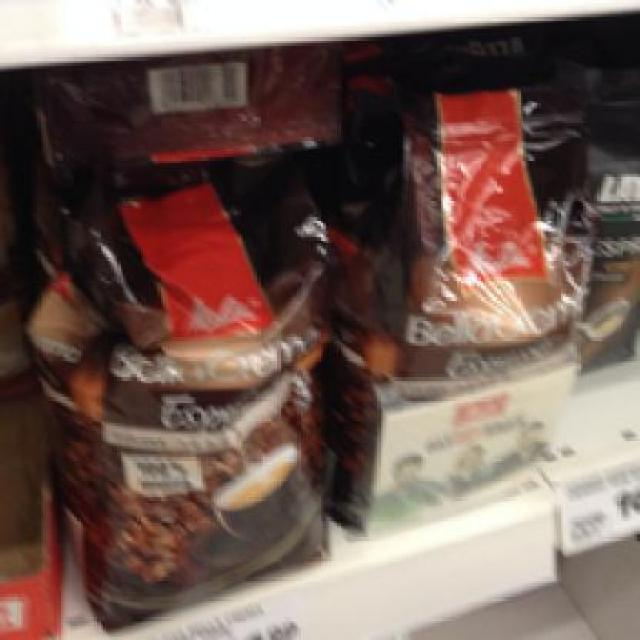Coffee: (35, 172, 332, 634), (328, 106, 586, 532)
